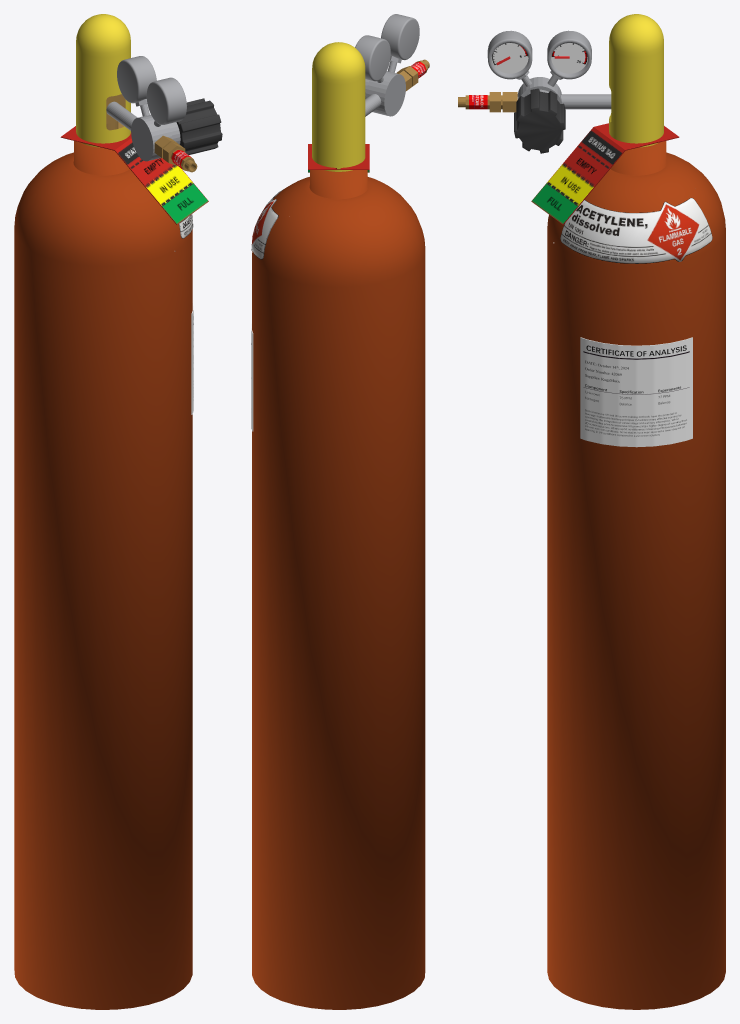
File: GasCylinder.fbx
3 renders of one model, left to right at view 1: azimuth 30°, elevation 25°; view 2: azimuth 150°, elevation 25°; view 3: azimuth 270°, elevation 25°, orthographic. The views are drawn at different scales.
Visible parts, largest first — view 1: GasCylinder Body, GasCylinder Cap, Regulator Body, Regulator Knob, Status Tag Empty, Status Tag Full, Status Tag Use, Flashback Arrestor; view 2: GasCylinder Body, GasCylinder Cap, Regulator Body, Shoulder Label C2H2, Status Tag Empty; view 3: GasCylinder Body, GasCylinder Certificate, Shoulder Label C2H2, GasCylinder Cap, Regulator Body, Regulator Knob, Status Tag Empty, Status Tag Full, Status Tag Use, Regulator PanelR, Regulator PanelL, Flashback Arrestor.
Boxes of the visible parts, bbox=[...] form: GasCylinder Body: bbox=[14, 141, 192, 1009]; GasCylinder Cap: bbox=[76, 14, 130, 147]; Regulator Body: bbox=[106, 56, 186, 161]; Regulator Knob: bbox=[176, 98, 222, 154]; Status Tag Empty: bbox=[60, 126, 173, 185]; Status Tag Full: bbox=[116, 152, 208, 224]; Status Tag Use: bbox=[124, 162, 192, 205]; Flashback Arrestor: bbox=[154, 135, 197, 172]; GasCylinder Body: bbox=[252, 170, 425, 1009]; GasCylinder Cap: bbox=[312, 42, 365, 171]; Regulator Body: bbox=[355, 14, 419, 116]; Shoulder Label C2H2: bbox=[251, 189, 283, 259]; Status Tag Empty: bbox=[308, 144, 369, 169]; GasCylinder Body: bbox=[547, 141, 725, 1009]; GasCylinder Certificate: bbox=[580, 337, 692, 447]; Shoulder Label C2H2: bbox=[553, 198, 712, 263]; GasCylinder Cap: bbox=[609, 14, 663, 147]; Regulator Body: bbox=[487, 30, 611, 109]; Regulator Knob: bbox=[514, 88, 565, 153]; Status Tag Empty: bbox=[563, 123, 679, 186]; Status Tag Full: bbox=[531, 152, 623, 224]; Status Tag Use: bbox=[547, 152, 623, 204]; Regulator PanelR: bbox=[551, 43, 587, 73]; Regulator PanelL: bbox=[491, 43, 528, 73]; Flashback Arrestor: bbox=[458, 92, 517, 112].
Size of the model in its own units: 35.99 by 24.15 by 142.
Materials: 14 (8 with a texture image).
